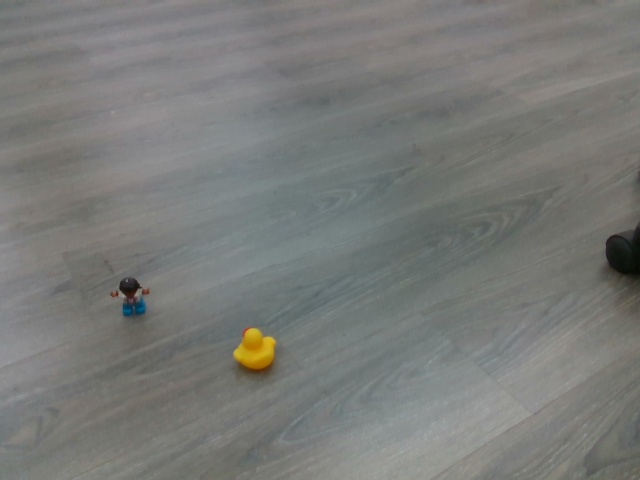duck: (231, 323, 280, 368)
people: (107, 274, 153, 316)
